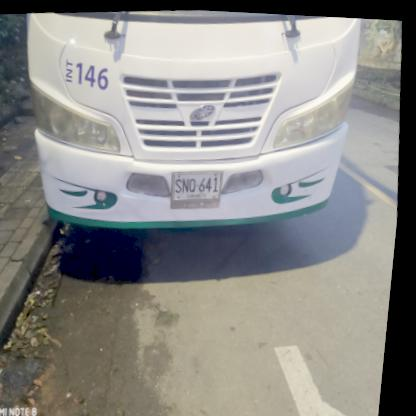placa: (173, 167, 226, 202)
